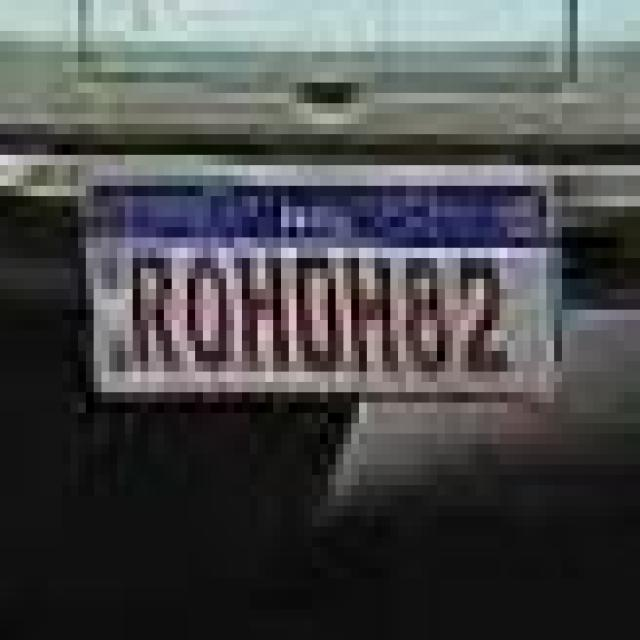0: (292, 246, 340, 376)
8: (402, 253, 453, 379), (403, 250, 446, 379)
H: (345, 247, 395, 380), (238, 244, 286, 376)
O: (182, 245, 234, 374)
R: (129, 244, 180, 378)
